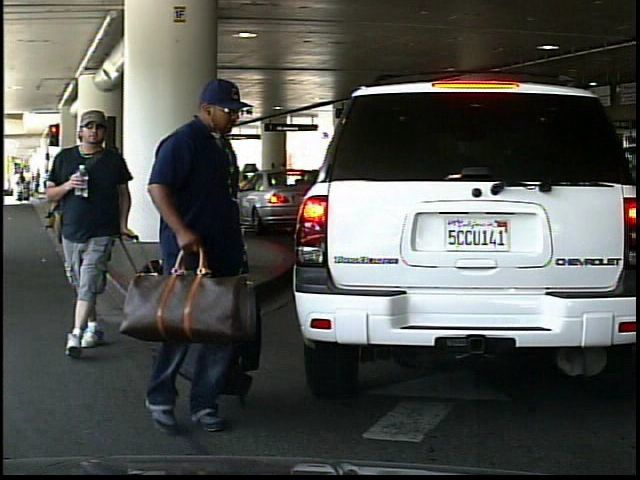person: (147, 76, 271, 437), (54, 101, 142, 356), (162, 131, 225, 270)
